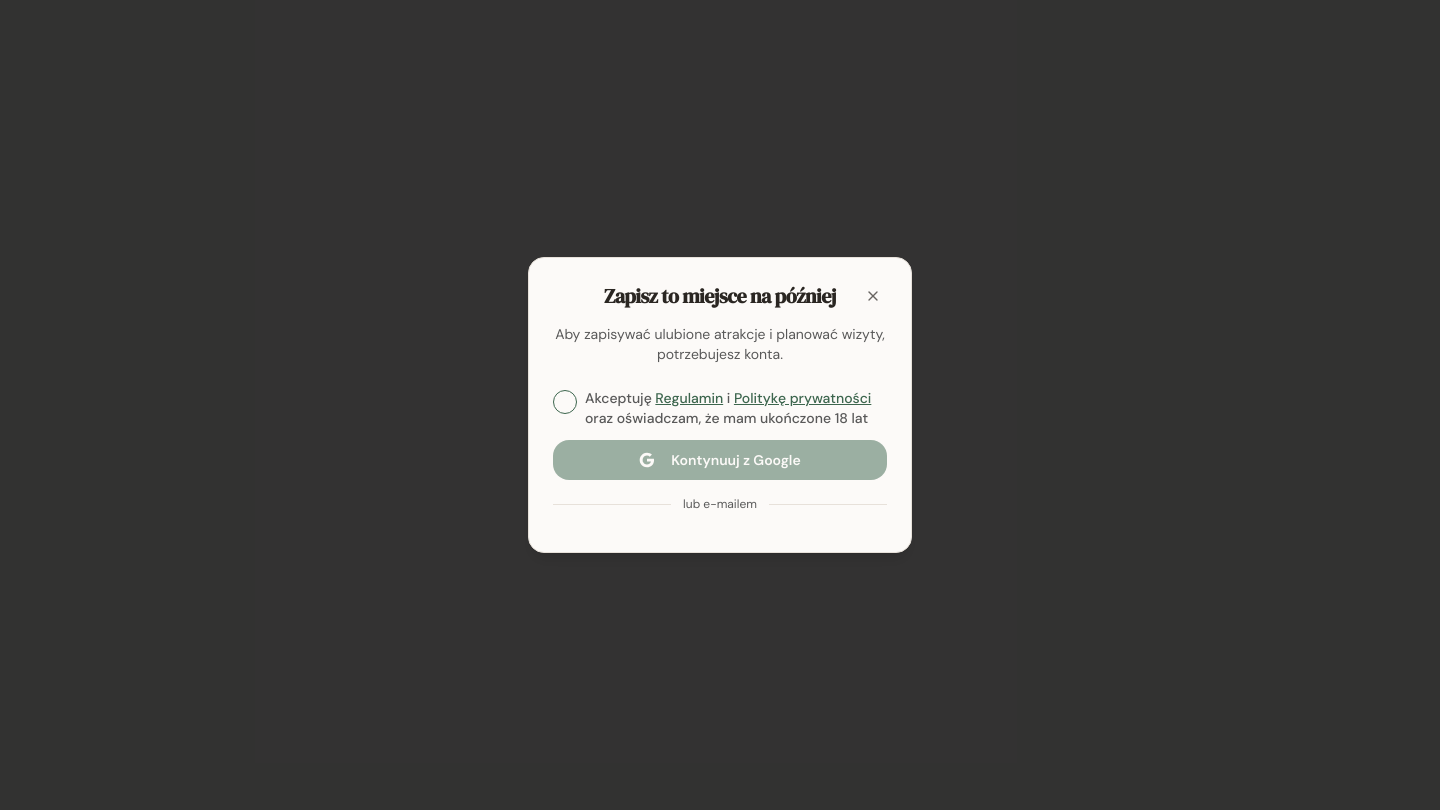
Scenario: I-07b: zgoda na regulamin przy logowaniu Google › odznaczenie zgody z powrotem blokuje przycisk
This screenshot has width=1440, height=810.
Click the checkbox named "Akceptuję". click: point(565, 402)
box: [553,390,577,414]
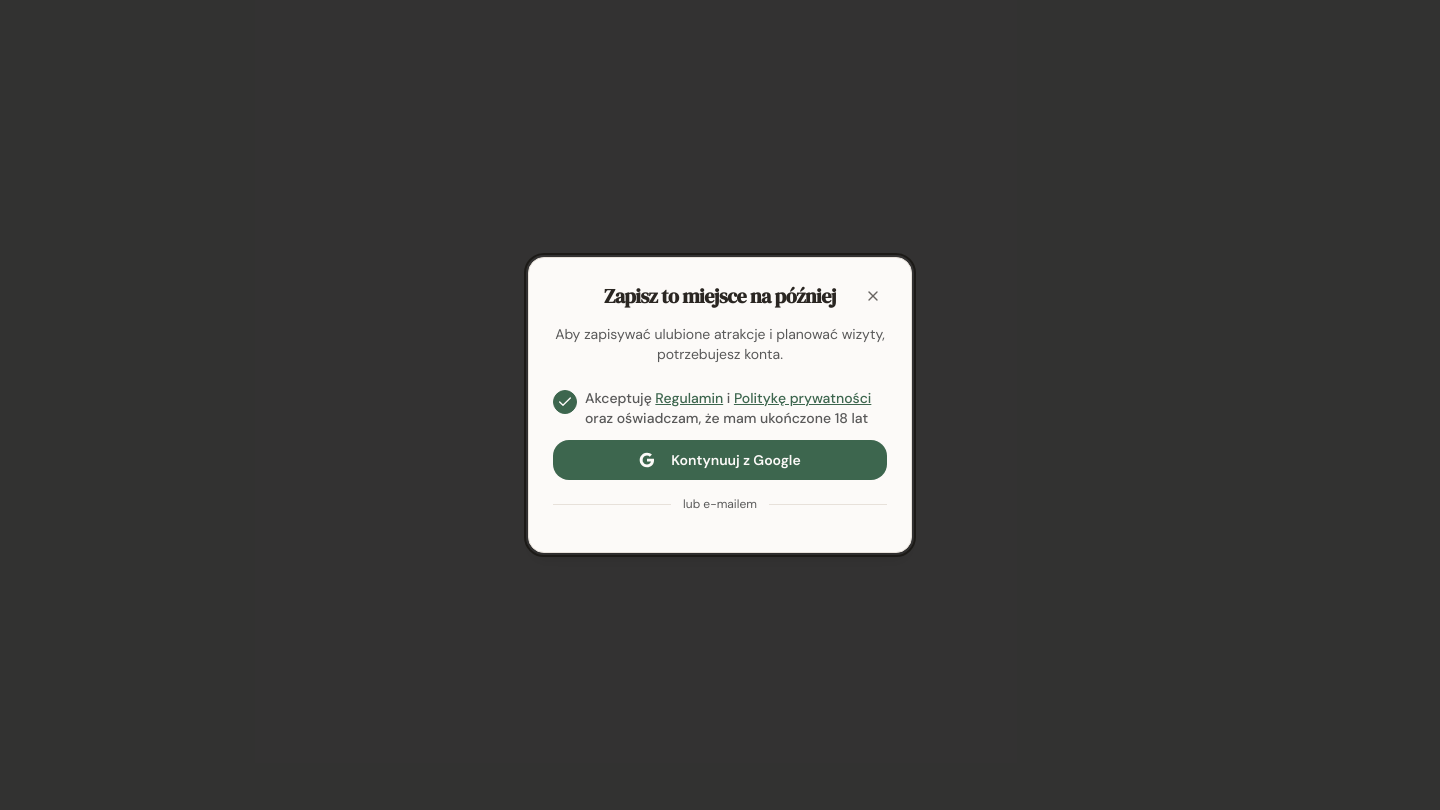
Now the button "Kontynuuj z Google" is enabled, box [553,440,887,480]
Click the checkbox named "Akceptuję". click: point(565, 402)
box: [553,390,577,414]
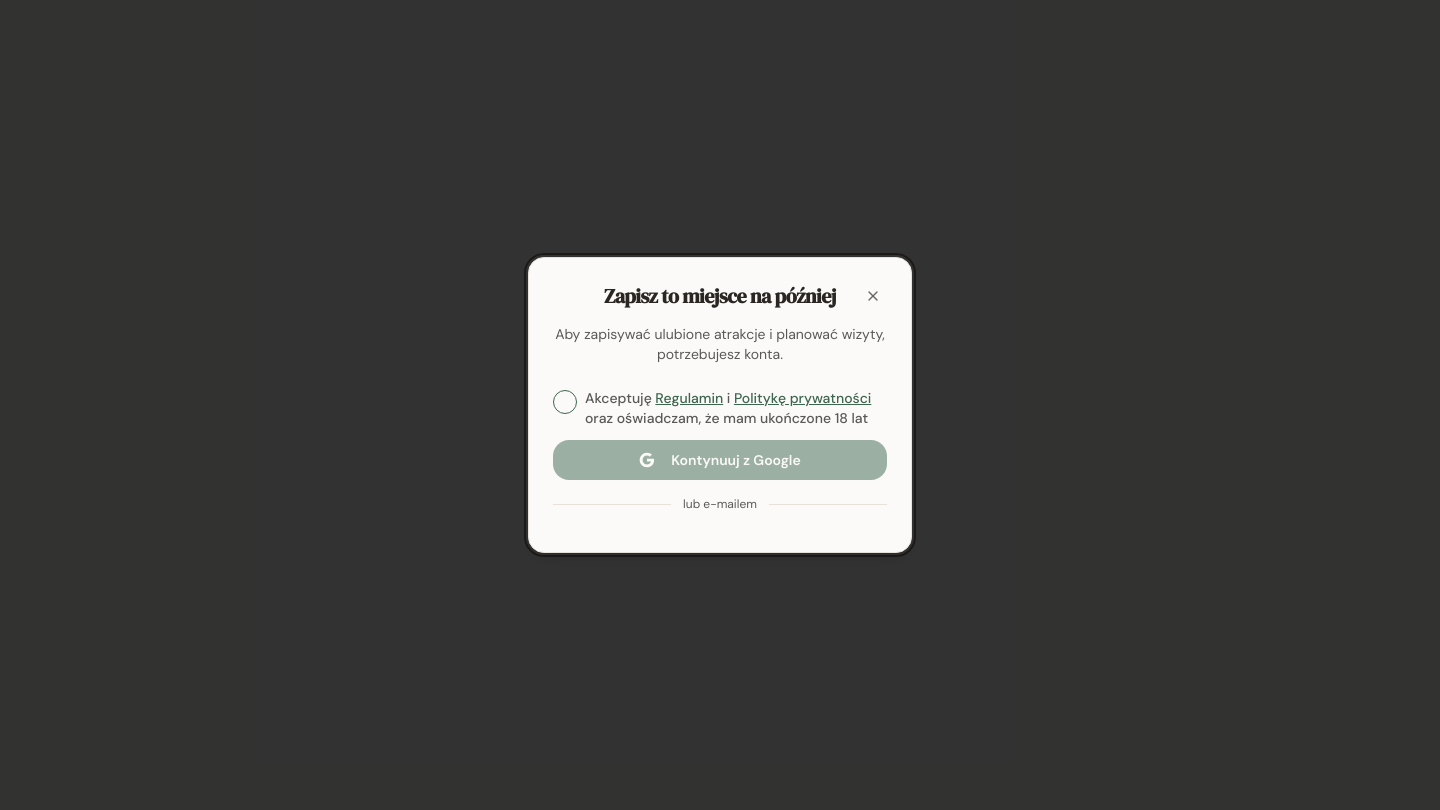
Now the button "Kontynuuj z Google" is disabled, box [553,440,887,480]
